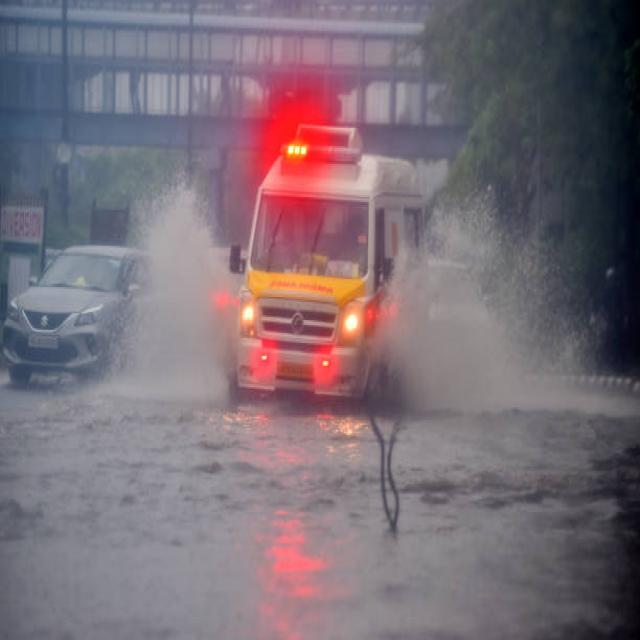ambulance: (250, 190, 369, 322), (244, 288, 358, 396), (274, 120, 360, 208)
